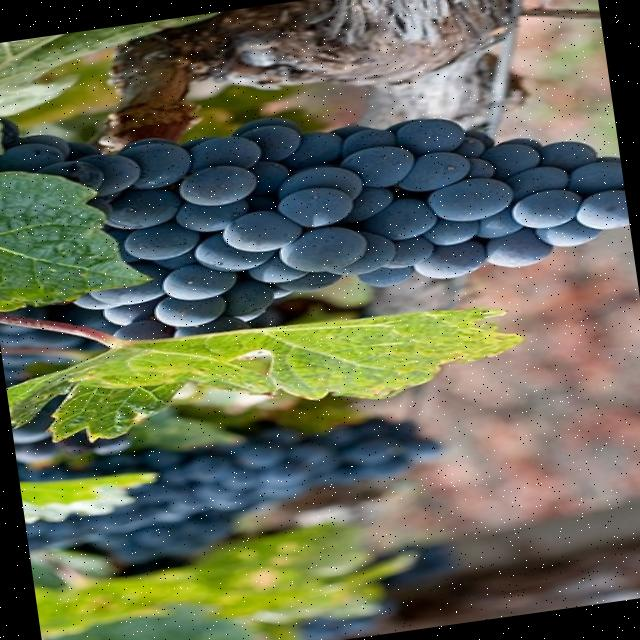grape: (0, 118, 624, 341), (18, 421, 437, 565)
